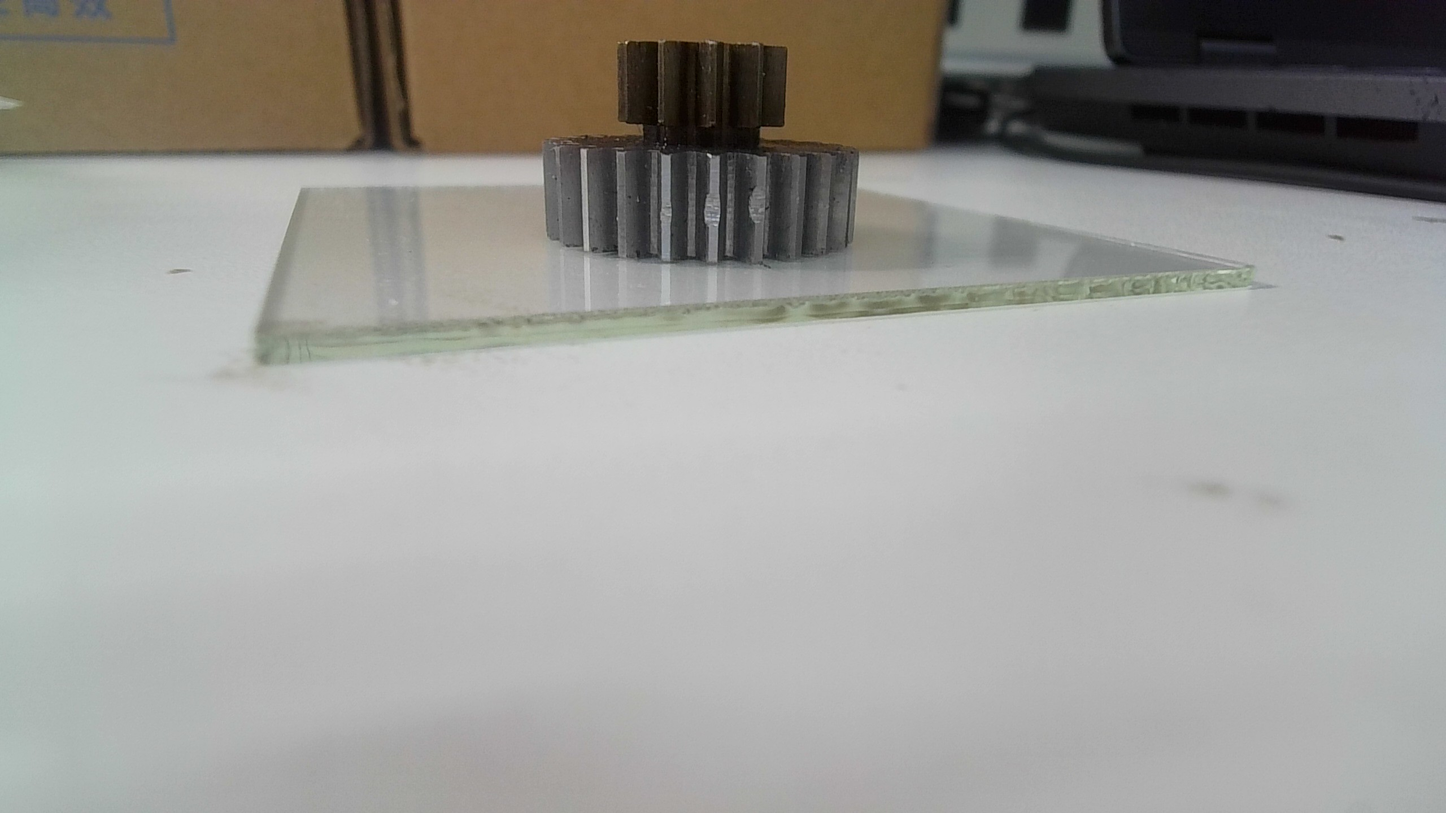gear: (538, 37, 864, 266)
